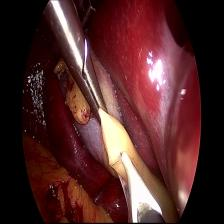Grasper: (48, 8, 110, 123)
Hook: (118, 149, 163, 222)
